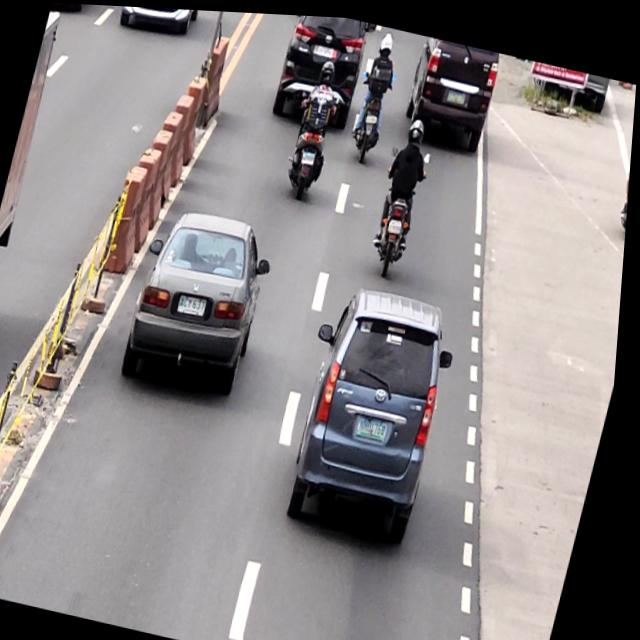Car: (277, 275, 472, 549), (122, 197, 284, 398), (397, 30, 505, 155), (263, 11, 377, 128)
License-Plate: (358, 413, 394, 439), (181, 290, 212, 315), (446, 81, 468, 102), (388, 213, 408, 230), (316, 39, 334, 55), (301, 148, 317, 161), (366, 108, 379, 120)
Motorcycle: (364, 137, 434, 278), (278, 83, 344, 203), (342, 61, 396, 163), (609, 119, 635, 242)
